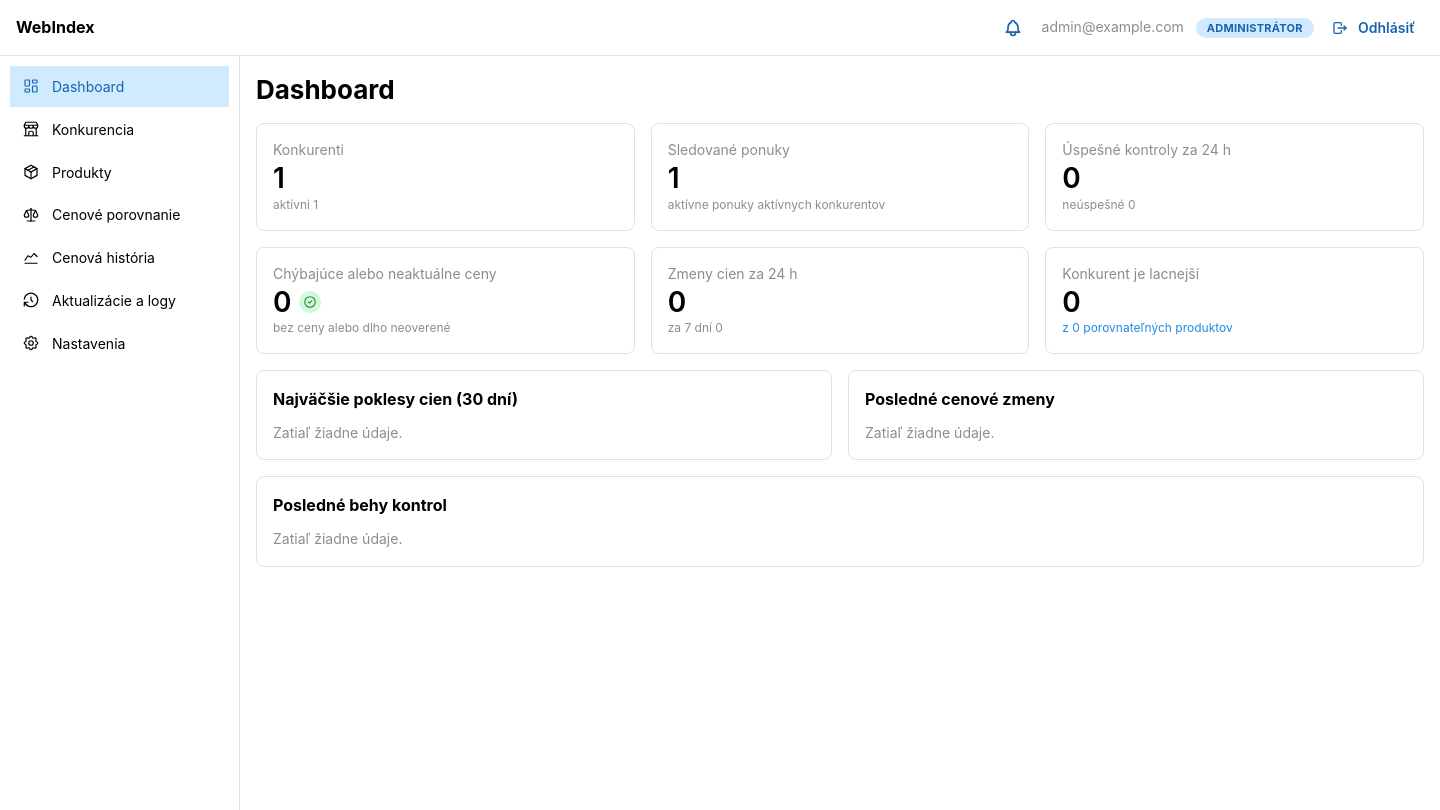
Test: App › sends the CSRF token when logging out
The image size is (1440, 810).
Click the button "Odhlásiť" at (1375, 28), box [1326,14,1424,40]
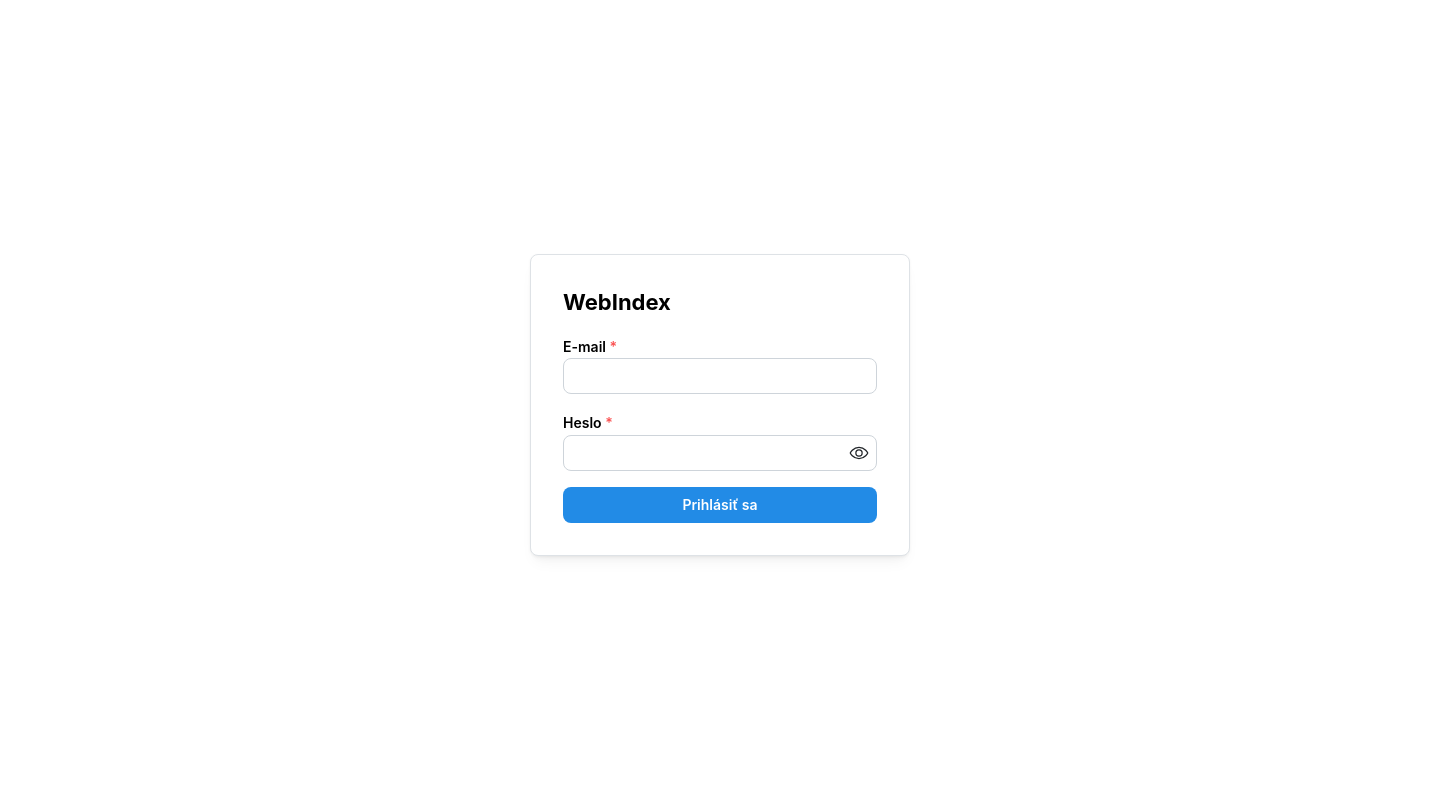
Now the button "Prihlásiť sa" is shown, box [563,487,877,523]
